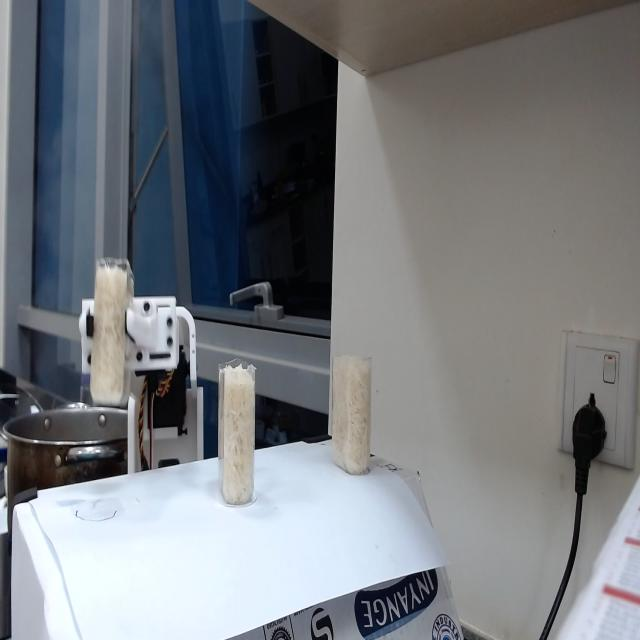cooking_pot: (0, 403, 127, 488)
raw_rice: (221, 366, 255, 506), (330, 368, 371, 479), (95, 270, 125, 410)
